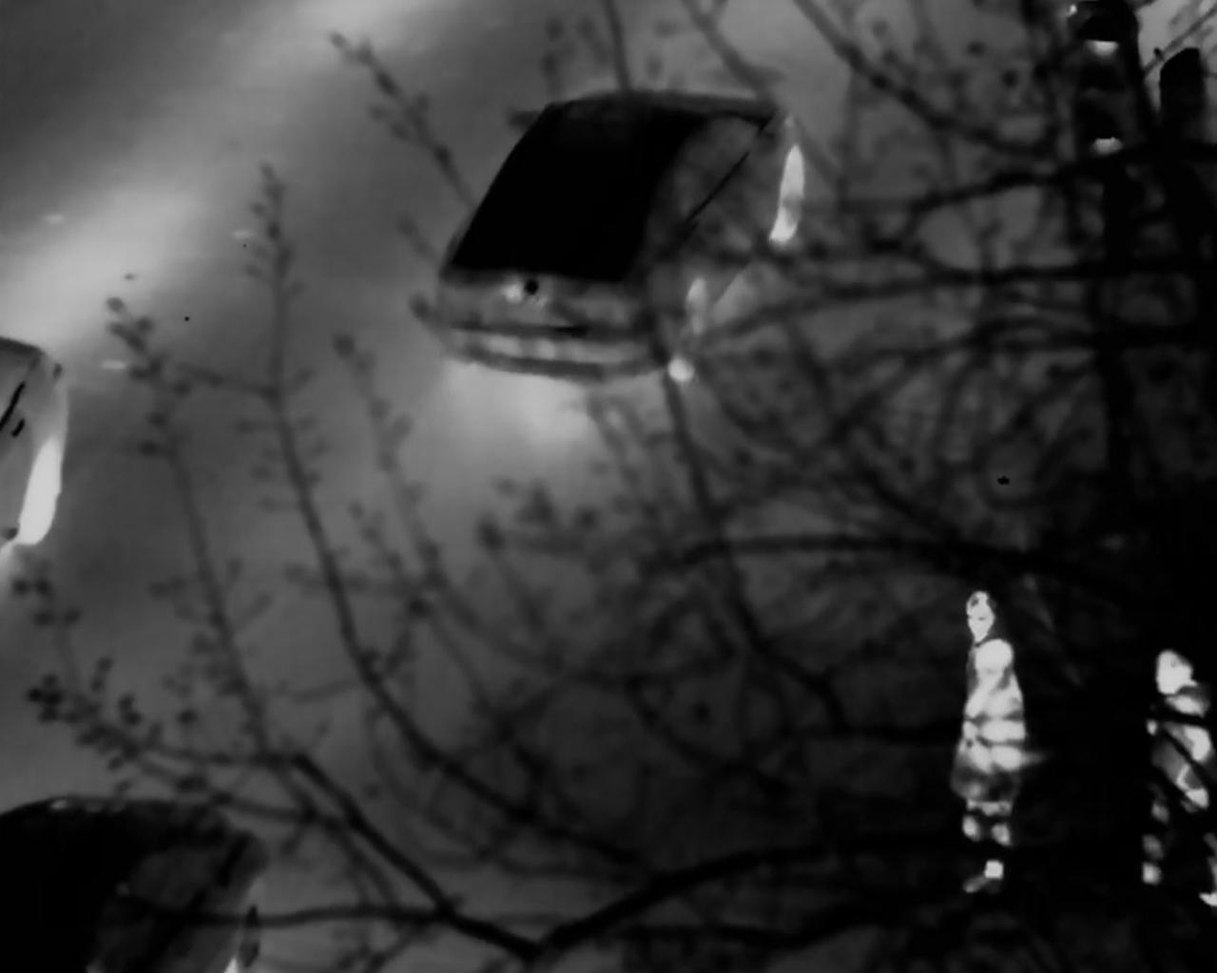person: (957, 596, 1032, 857), (1150, 635, 1210, 913)
